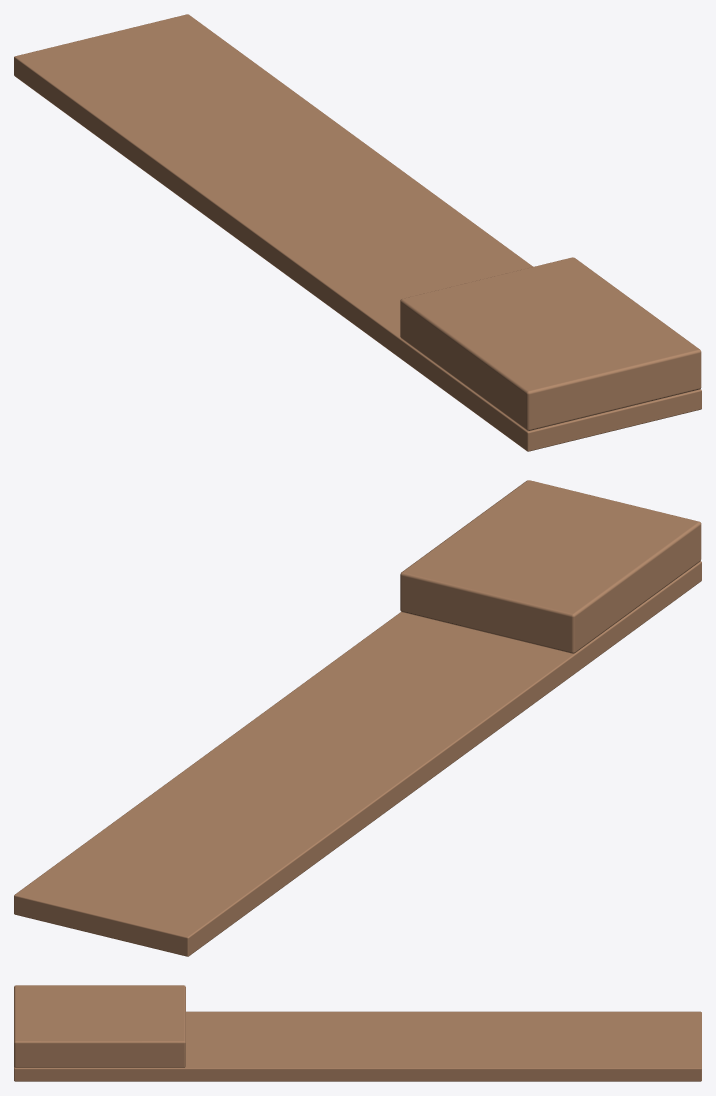
The model's file is scavengers-loot-library-leather-strip-afb2c06f__2608.glb.
The picture shows the model from 3 angles, top to bottom: view 1: azimuth 30°, elevation 25°; view 2: azimuth 150°, elevation 25°; view 3: azimuth 270°, elevation 25°; orthographic projection. The views are drawn at different scales.
Parts seen in each view (by area): view 1: leather-strip; view 2: leather-strip; view 3: leather-strip.
Part boxes in pixels (left/top/right/bottom): leather-strip: left=14, top=14, right=701, bottom=451; leather-strip: left=14, top=480, right=701, bottom=956; leather-strip: left=14, top=985, right=701, bottom=1081.
Bounding box in the file's own units: 0.055 × 0.018 × 0.28.
